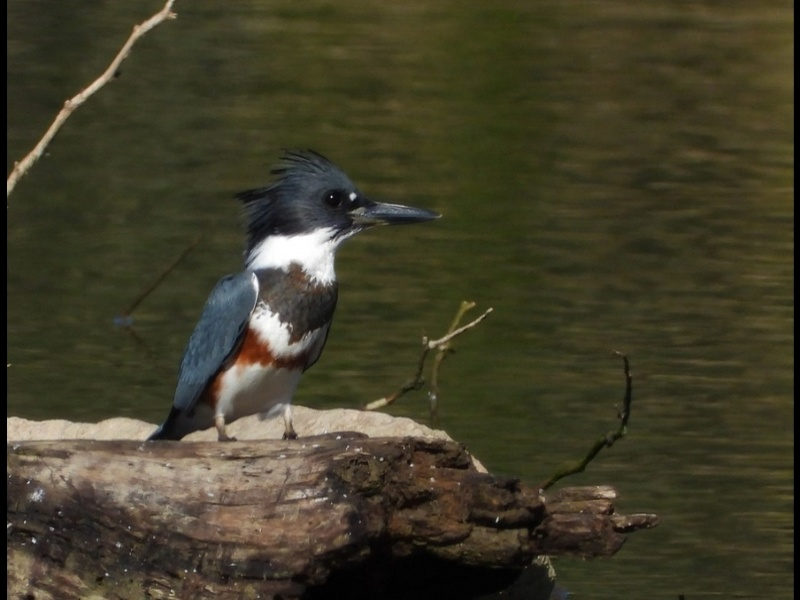kingfisher: (149, 140, 449, 447)
